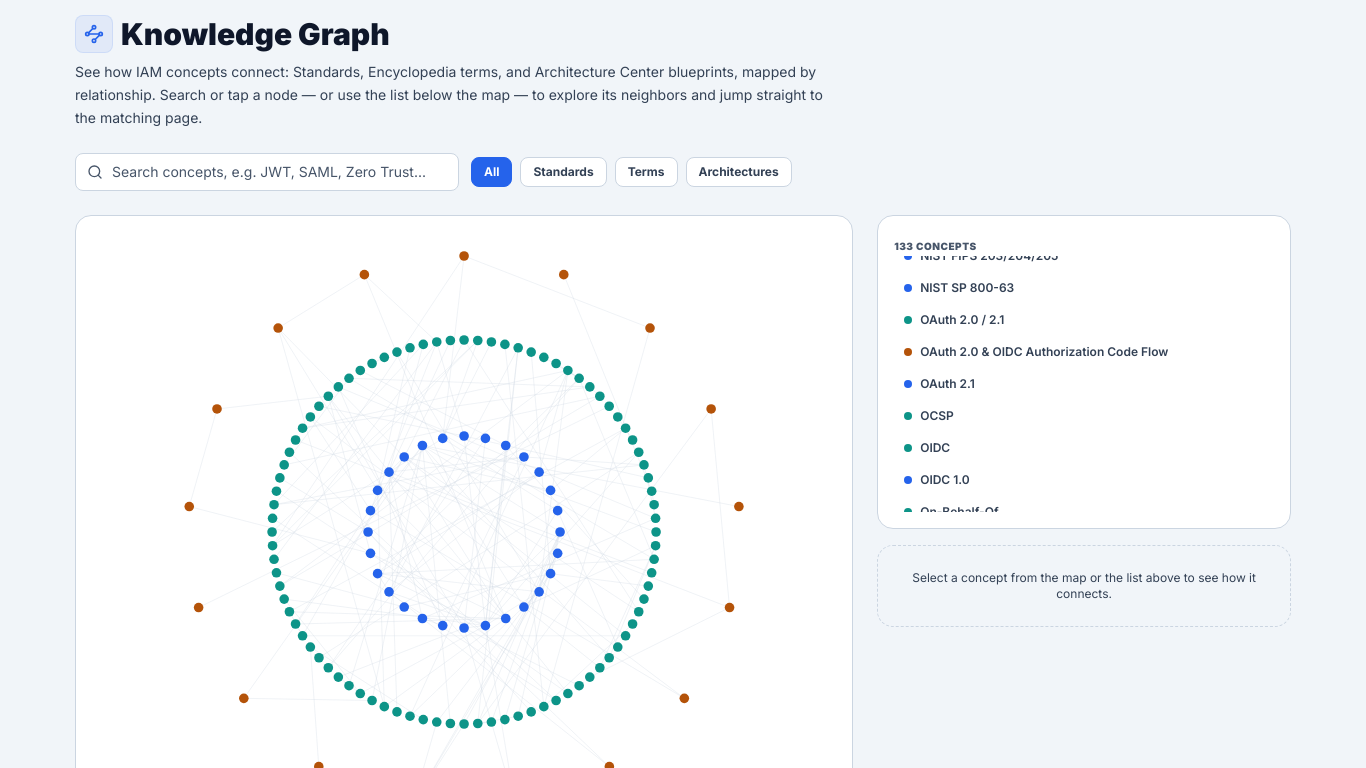
Scenario: KnowledgeGraph page › selecting a node from the list opens its detail panel with a link to its full page
(page scrolled)
Step 1. Click the button with aria-label "open oauth 2.1 details" → [948, 384], box x1=894 y1=370 x2=1270 y2=398
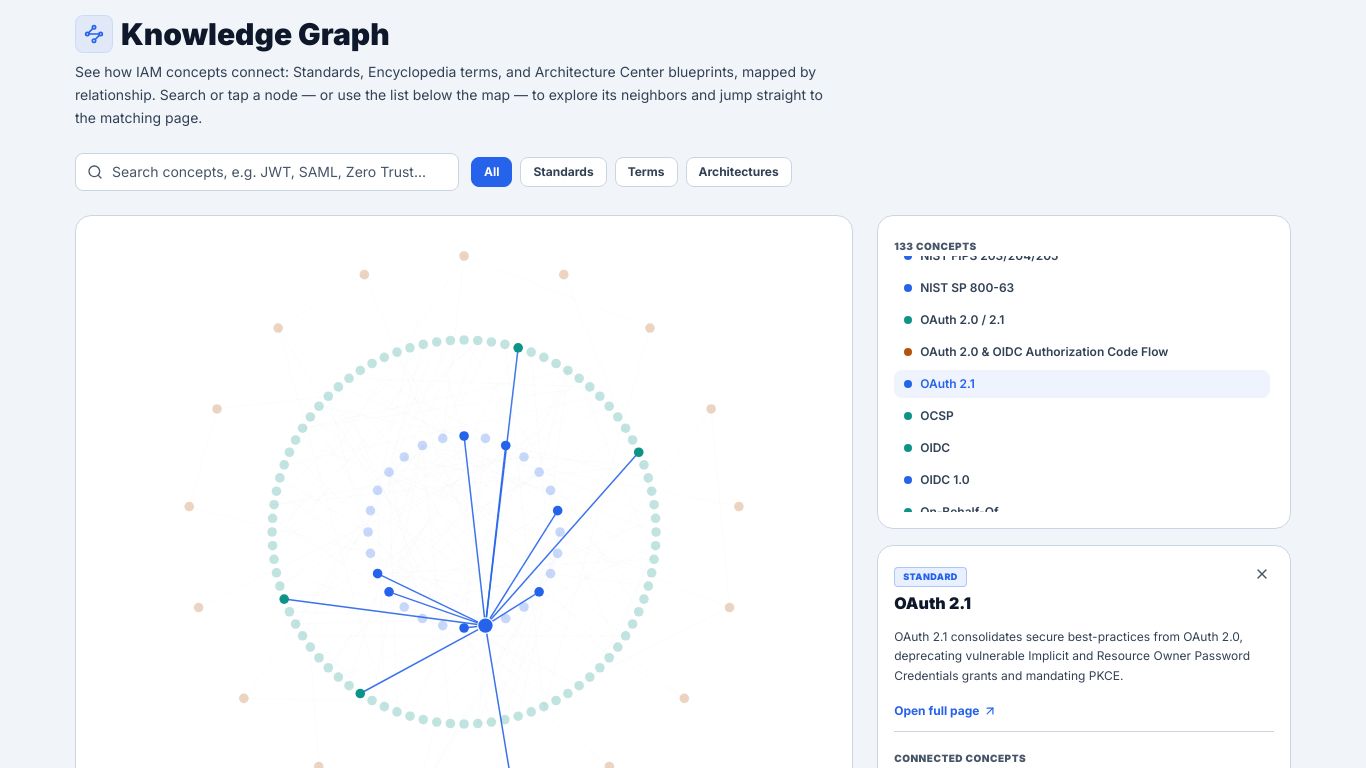
Now the heading "OAuth 2.1" is shown, box x1=894 y1=591 x2=971 y2=615
